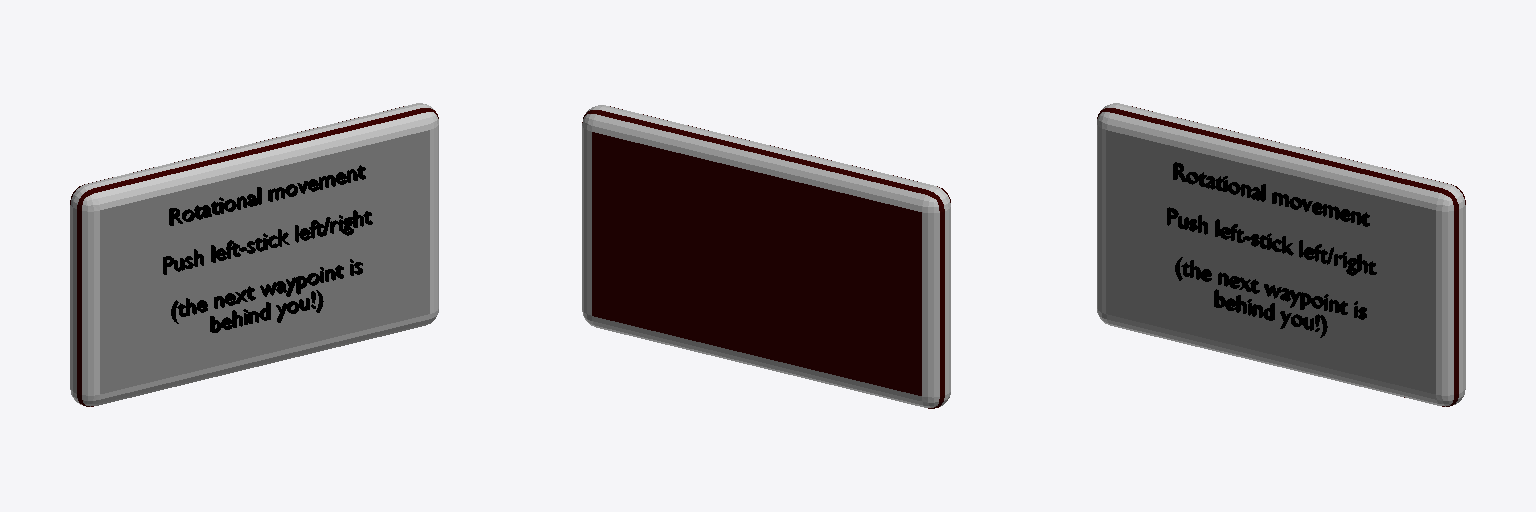
Rendered from box_rotational.obj.
The picture shows the model from 3 angles: view 1: azimuth 30°, elevation 25°; view 2: azimuth 150°, elevation 25°; view 3: azimuth 330°, elevation 25°; orthographic projection.
Parts seen in each view (by area): view 1: box_rotational; view 2: box_rotational; view 3: box_rotational.
Boxes of the visible parts, x1,y1,x2,y2 form: box_rotational: [70, 103, 438, 406]; box_rotational: [582, 105, 950, 408]; box_rotational: [1097, 103, 1465, 406].
Bounding box in the file's own units: 0.5 × 0.2887 × 0.0531.